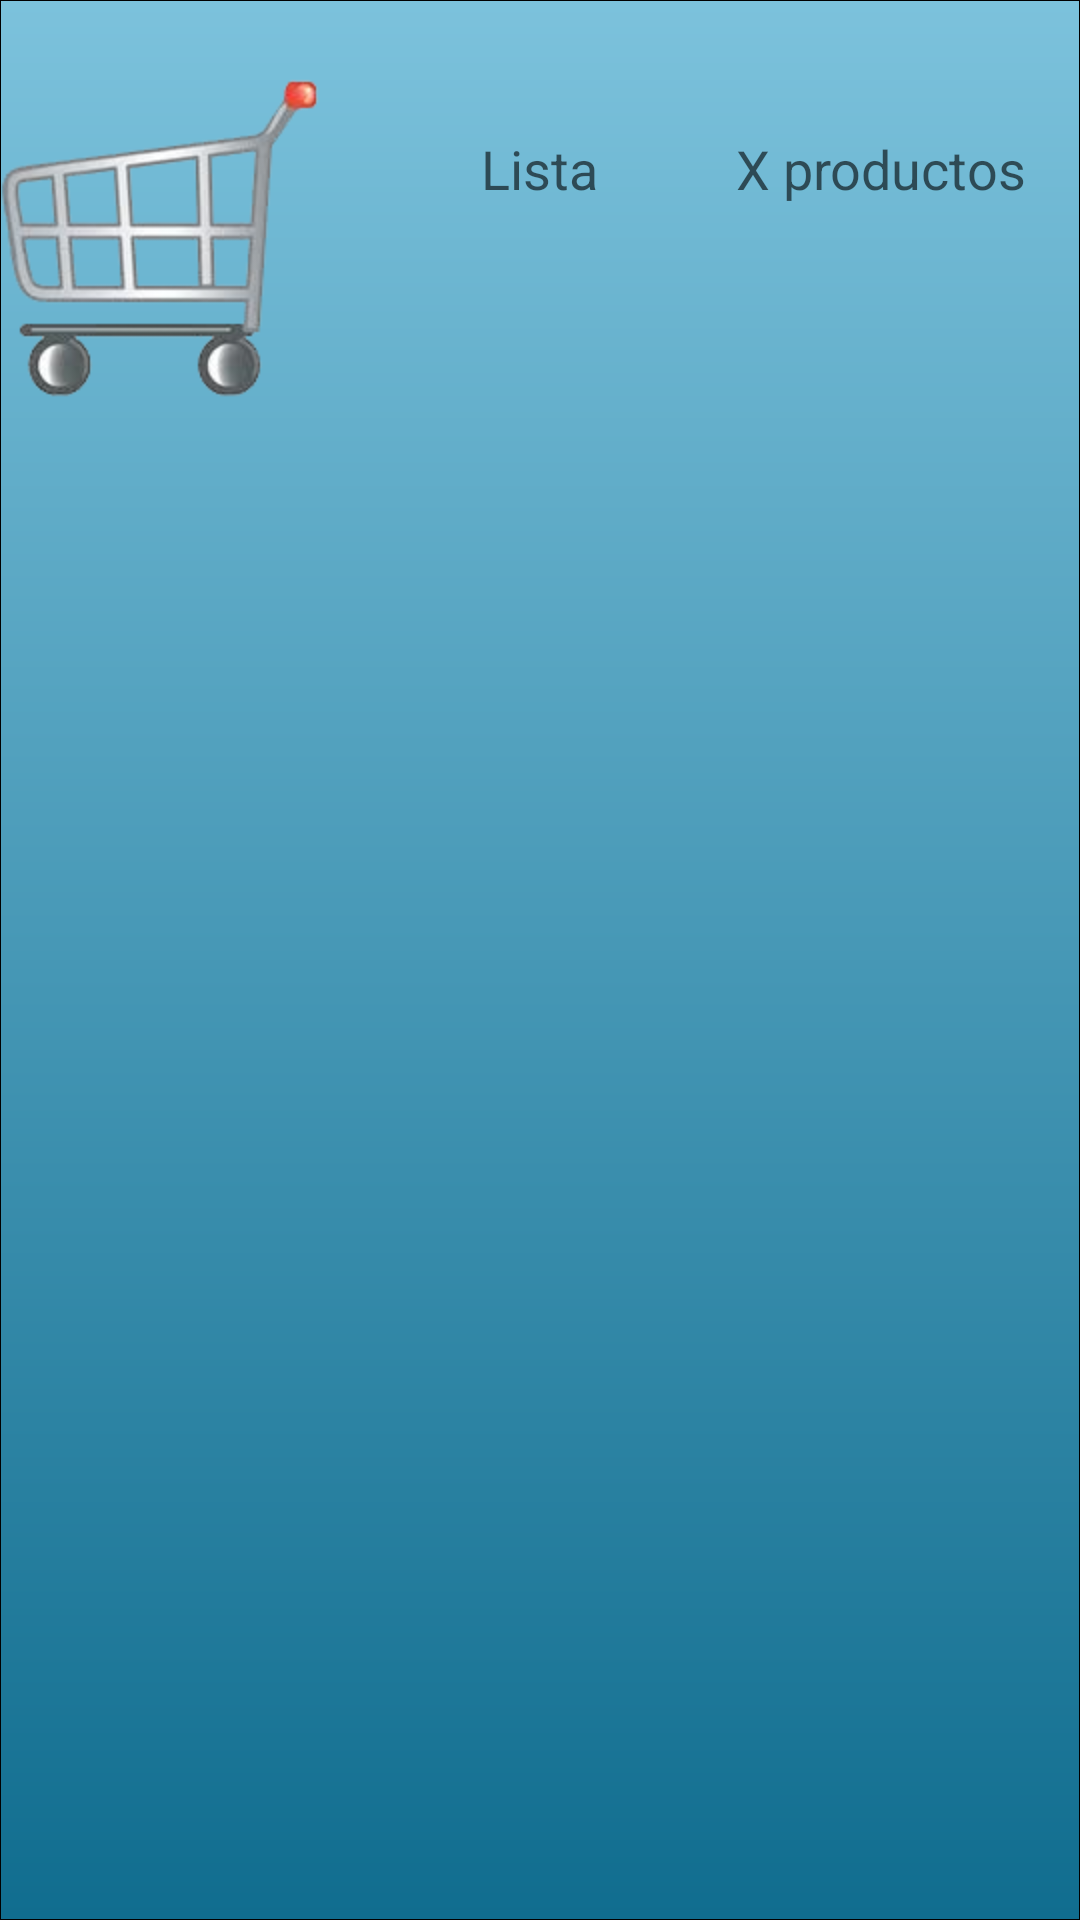

Screen size 1080 × 1920. Icon name, then its center in pixels as (x=x, y=y):
carro: (x=160, y=238)
